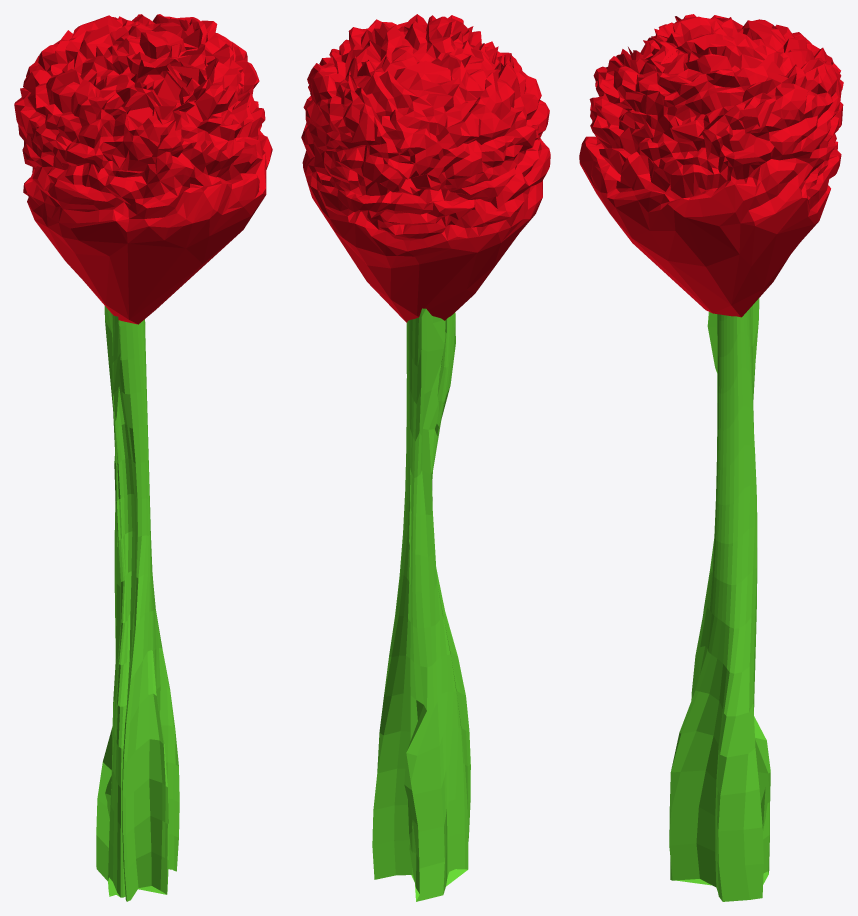
The model's file is flower.glb.
3 views of the same model, side by side, from view 1: azimuth 30°, elevation 25°; view 2: azimuth 150°, elevation 25°; view 3: azimuth 270°, elevation 25° (orthographic). The views are drawn at different scales.
Parts seen in each view (by area): view 1: Icosphere, Cylinder; view 2: Icosphere, Cylinder; view 3: Icosphere, Cylinder.
Part boxes in pixels (left/top/right/bottom): Icosphere: left=14, top=14, right=272, bottom=324; Cylinder: left=96, top=306, right=179, bottom=901; Icosphere: left=301, top=14, right=550, bottom=322; Cylinder: left=372, top=308, right=470, bottom=901; Icosphere: left=579, top=14, right=843, bottom=317; Cylinder: left=669, top=298, right=770, bottom=901.
Bounding box in the file's own units: 13.68 × 52.16 × 14.25.
